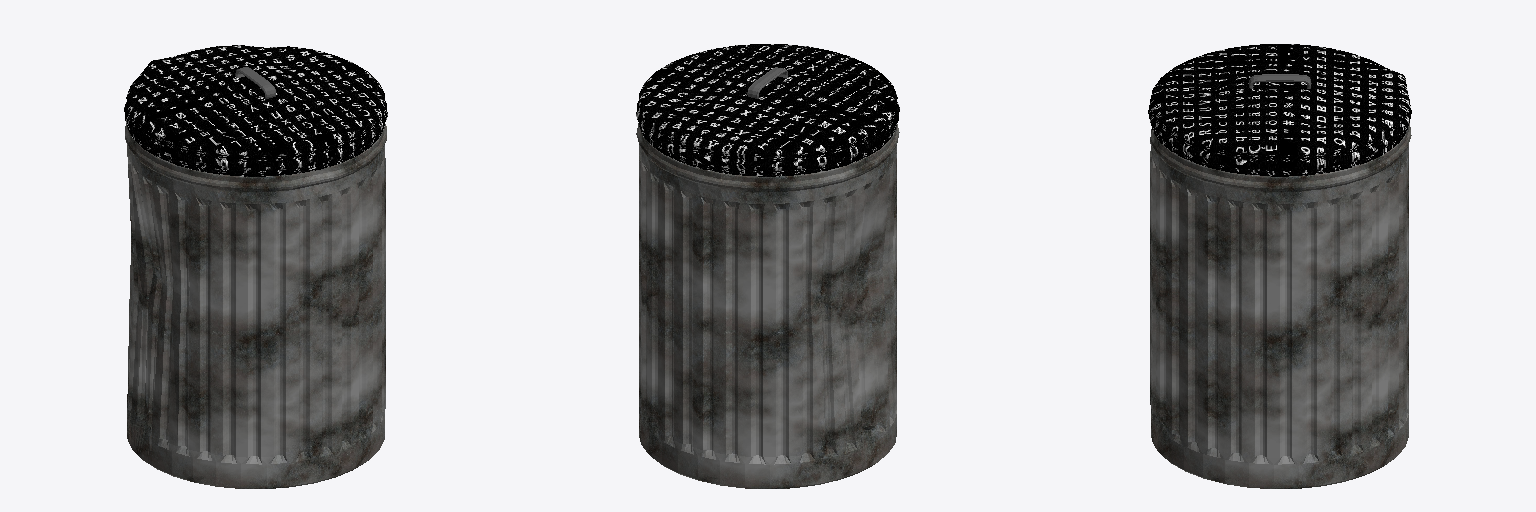
3 views of the same model, side by side, from view 1: azimuth 30°, elevation 25°; view 2: azimuth 150°, elevation 25°; view 3: azimuth 270°, elevation 25° (orthographic).
Parts seen in each view (by area): view 1: contener, cover; view 2: contener, cover; view 3: contener, cover.
Boxes of the visible parts, x1=… form: contener: x1=125, y1=123, x2=386, y2=488; cover: x1=124, y1=45, x2=387, y2=176; contener: x1=636, y1=123, x2=899, y2=488; cover: x1=636, y1=44, x2=899, y2=176; contener: x1=1150, y1=123, x2=1411, y2=488; cover: x1=1148, y1=44, x2=1411, y2=176.
Size of the model in its own units: 61.02 by 91.69 by 61.02.
3 materials, 2 textured.